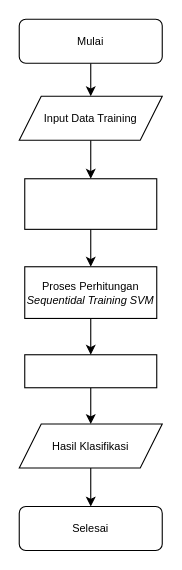
Some shapes in this 182 by 570 pixel diagram are drawn without their labels. Each missing label, with the box of its shape:
Proses Penerapan fungsi Kernel SVM: (24, 178, 157, 229)
Proses Testing SVM: (24, 354, 157, 388)
